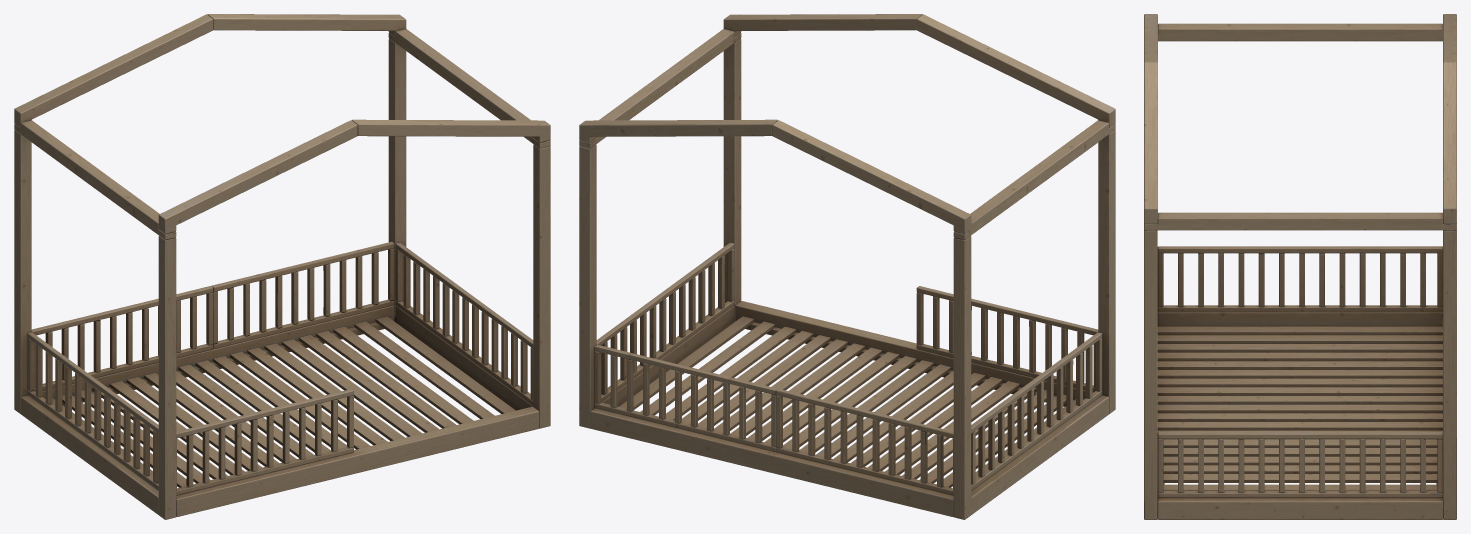
The picture shows the model from 3 angles, left to right: view 1: azimuth 30°, elevation 25°; view 2: azimuth 150°, elevation 25°; view 3: azimuth 270°, elevation 25°; orthographic projection. The views are drawn at different scales.
Visible parts, largest first — view 1: 200x120; view 2: 200x120; view 3: 200x120.
Boxes of the visible parts, box(x1,y1,x2,y2) form: 200x120: box(14, 14, 550, 519); 200x120: box(579, 14, 1115, 519); 200x120: box(1144, 14, 1456, 519).
Size of the model in its own units: 2.02 by 1.74 by 1.37.
1 material, 1 textured.
